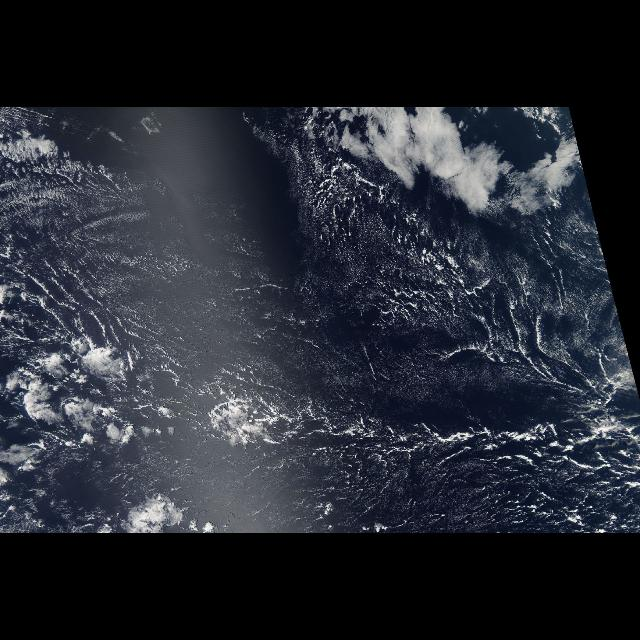Sugar: (1, 169, 638, 533)
